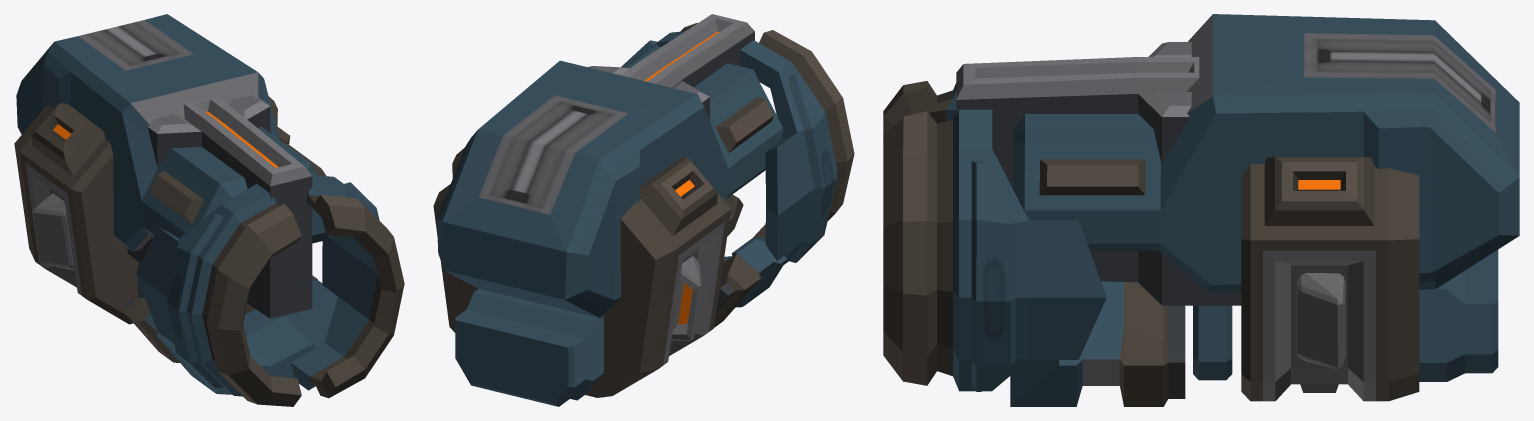
The model's file is SM_Mech_Arm_01_Armor_Forearm_01.fbx.
3 views of the same model, side by side, from view 1: azimuth 30°, elevation 25°; view 2: azimuth 150°, elevation 25°; view 3: azimuth 270°, elevation 25° (orthographic). The views are drawn at different scales.
Parts seen in each view (by area): view 1: SM_Mech_Arm_01_Armor_Forearm_01; view 2: SM_Mech_Arm_01_Armor_Forearm_01; view 3: SM_Mech_Arm_01_Armor_Forearm_01.
Boxes of the visible parts, left/top/right/bottom form: SM_Mech_Arm_01_Armor_Forearm_01: left=14, top=14, right=404, bottom=406; SM_Mech_Arm_01_Armor_Forearm_01: left=433, top=14, right=854, bottom=406; SM_Mech_Arm_01_Armor_Forearm_01: left=883, top=14, right=1519, bottom=406.
Size of the model in its own units: 58.53 by 61.66 by 105.
